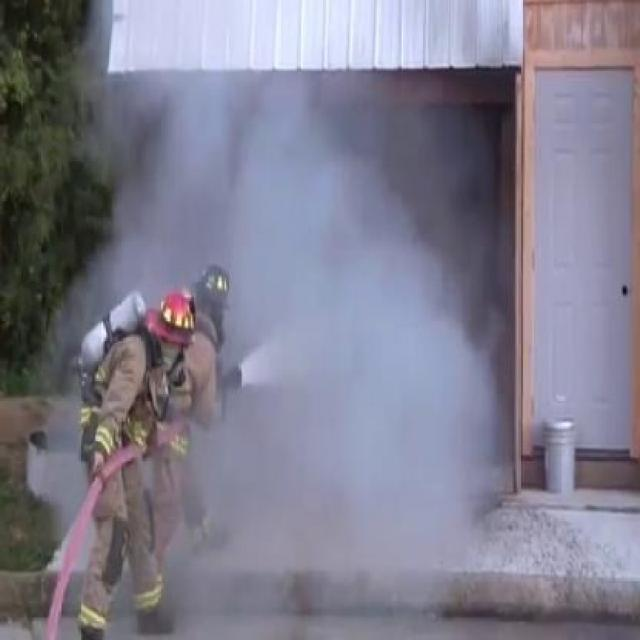smoke: (178, 65, 412, 290), (268, 390, 488, 558)
